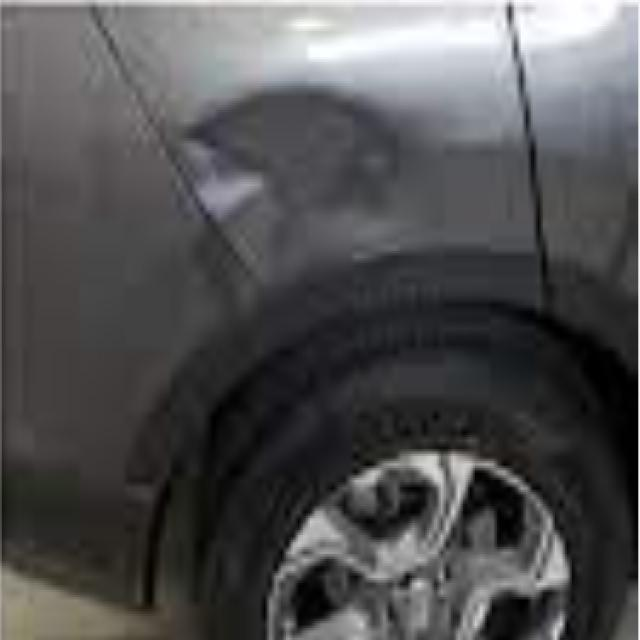dents: (172, 94, 412, 282)
